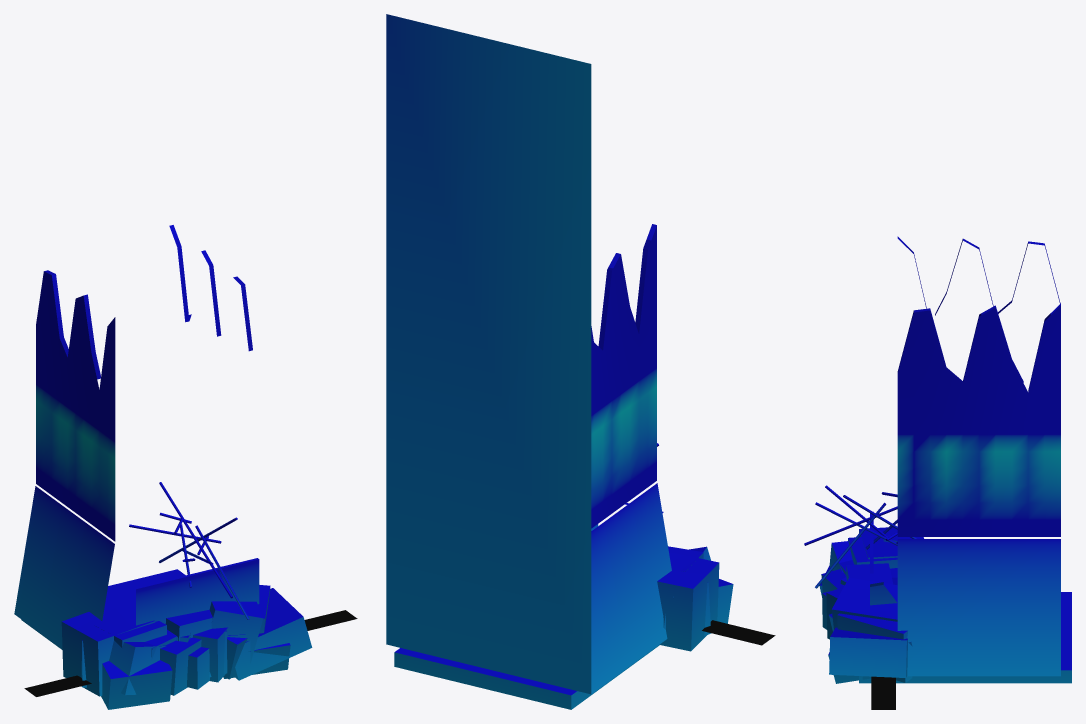
Rendered from s_heavypost_destroyed.glb.
The picture shows the model from 3 angles, left to right: view 1: azimuth 30°, elevation 25°; view 2: azimuth 150°, elevation 25°; view 3: azimuth 270°, elevation 25°; orthographic projection. The views are drawn at different scales.
Visible parts, largest first — view 1: lod0; view 2: lod0; view 3: lod0.
Part boxes in pixels (x1,y1,x2,y2): lod0: [14, 225, 357, 709]; lod0: [386, 14, 775, 709]; lod0: [804, 236, 1071, 709].
Size of what is drawn, in the model's own units: 10.5 by 17.84 by 7.37.
